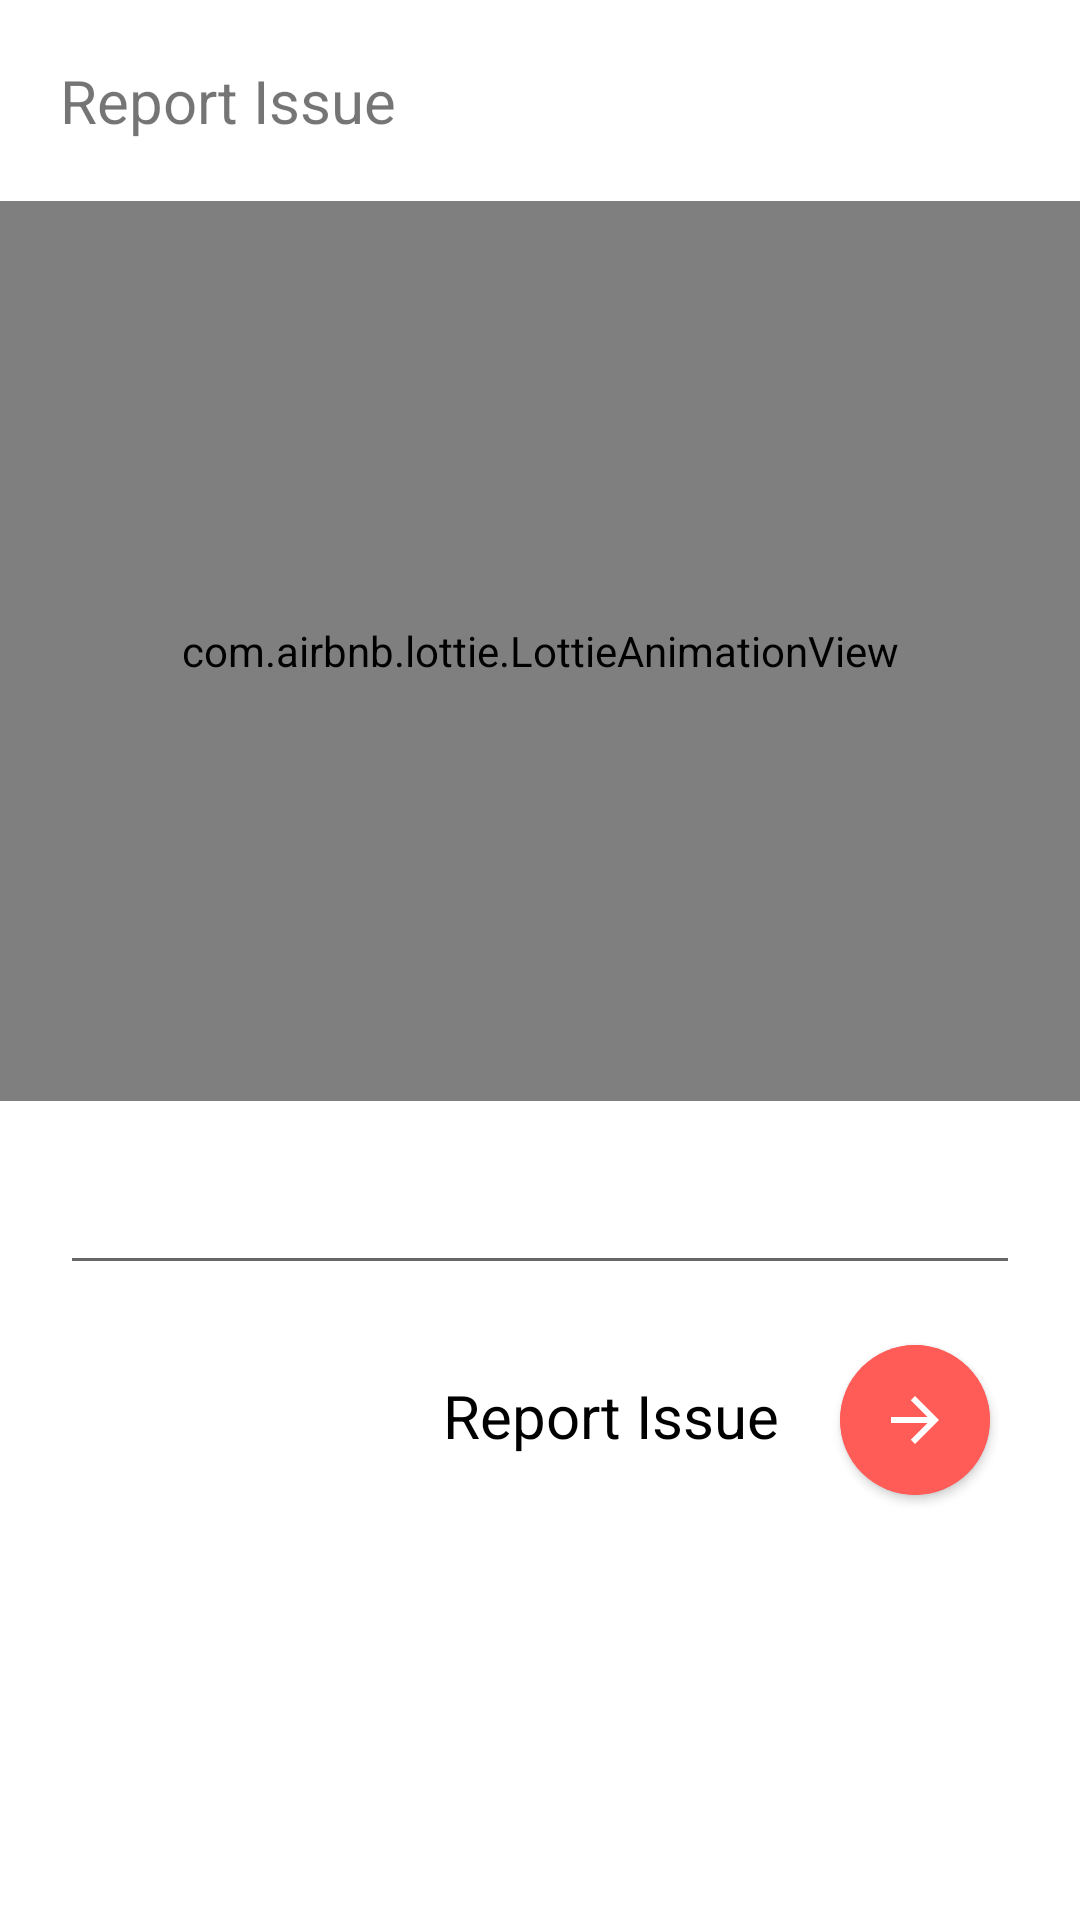

Icons on this 1080*1920 Android screen, each with its box as (x1, y1, x2, y2):
arrow: (840, 1345, 990, 1495)
